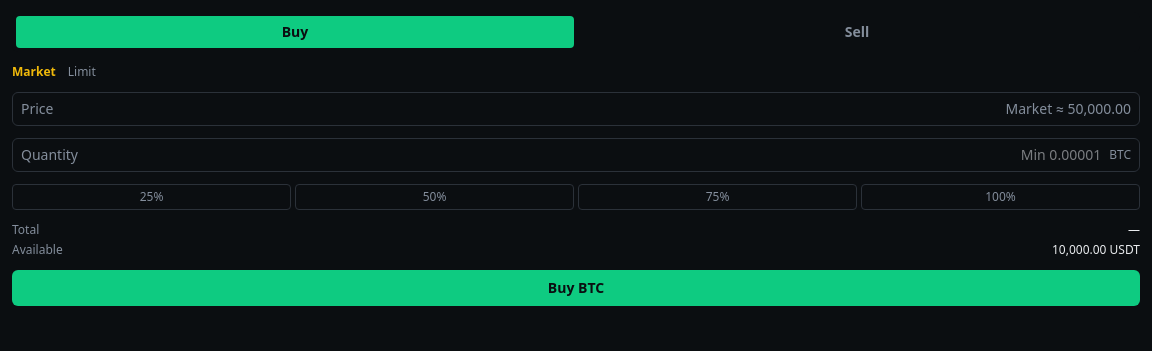
Scenario: OrderForm › places a market buy and shows the result
The width and height of the screenshot is (1152, 351).
Type "0.01" into the field labelled "Quantity BTC" at point(594, 155), box [86, 145, 1101, 165]
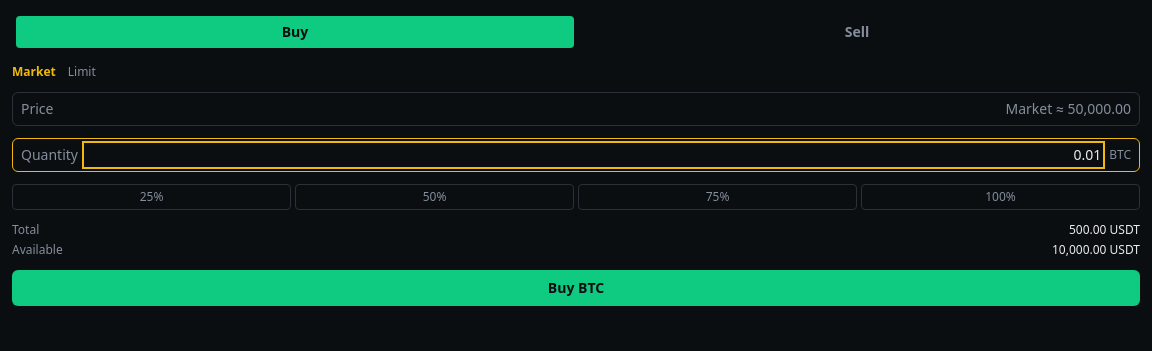
Click the button "Buy BTC" at point(576, 288), box [12, 270, 1140, 306]
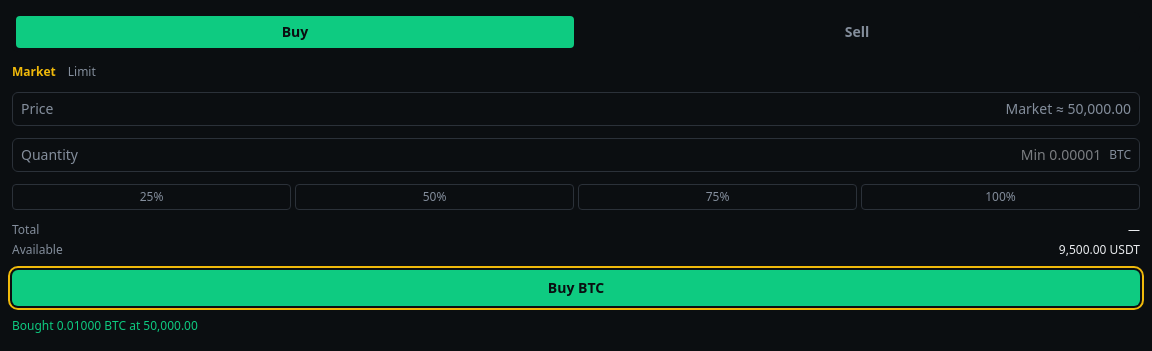
Expected: the message reads "Bought 0.01000 BTC at 50,000.00", [12, 317, 198, 334]
Expected: the field labelled "Quantity BTC" is empty, [86, 145, 1101, 165]
Expected: the text "9,500.00 USDT" is shown, [1059, 242, 1140, 258]
